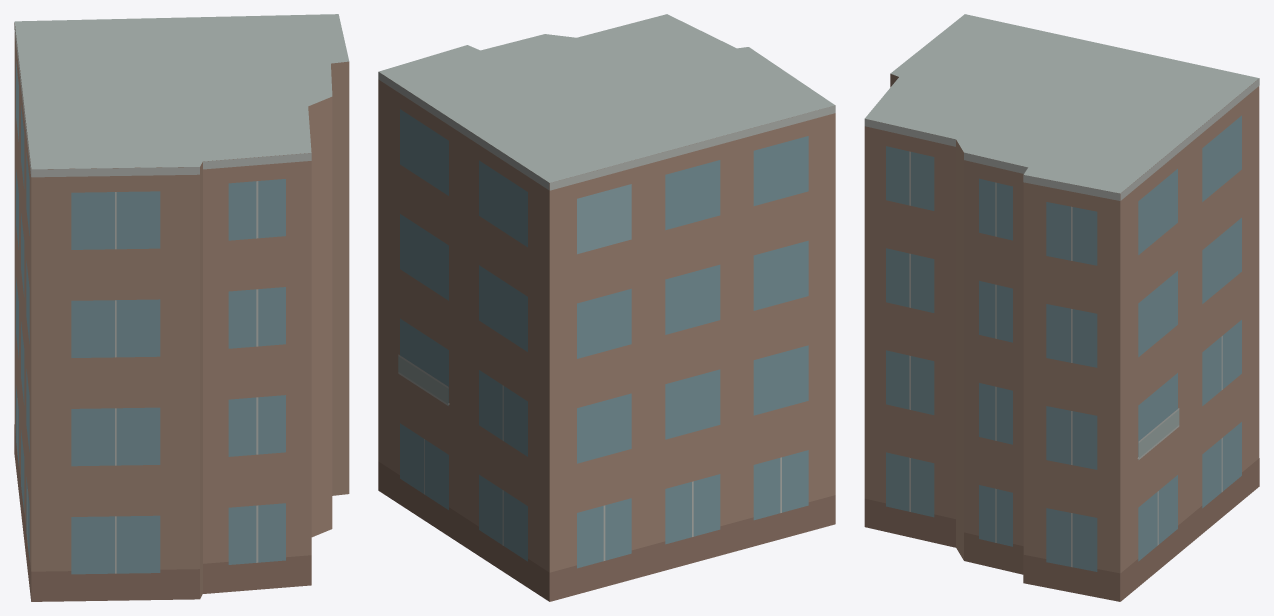
File: survey-upis-32461799.glb
3 renders of one model, left to right at view 1: azimuth 30°, elevation 25°; view 2: azimuth 150°, elevation 25°; view 3: azimuth 270°, elevation 25°, orthographic. The views are drawn at different scales.
Parts seen in each view (by area): view 1: survey-upis-32461799.tmp; view 2: survey-upis-32461799.tmp; view 3: survey-upis-32461799.tmp.
Part boxes in pixels (<box>): survey-upis-32461799.tmp: <box>14,14,349,601</box>; survey-upis-32461799.tmp: <box>378,14,835,601</box>; survey-upis-32461799.tmp: <box>864,14,1259,601</box>.
Size of the model in its own units: 12.45 by 13.2 by 11.58.
